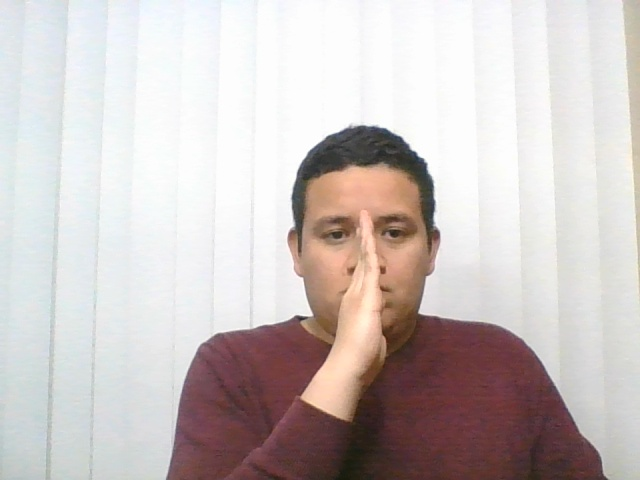God: (255, 183, 461, 413)
